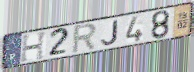2: (48, 27, 72, 60)
4: (125, 15, 145, 43)
8: (151, 9, 171, 40)
H: (19, 30, 49, 64)
J: (100, 19, 120, 46)
R: (71, 22, 99, 56)
